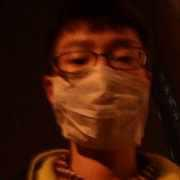OK: (58, 37, 152, 141)
